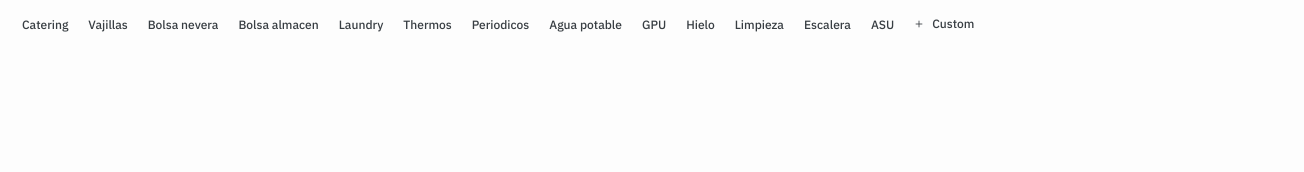
Test: AddServicePicker — built-in chips › clicking + Custom switches into custom mode with an input
Click the button "Custom". click: (944, 24)
box: x1=904 y1=12 x2=984 y2=36
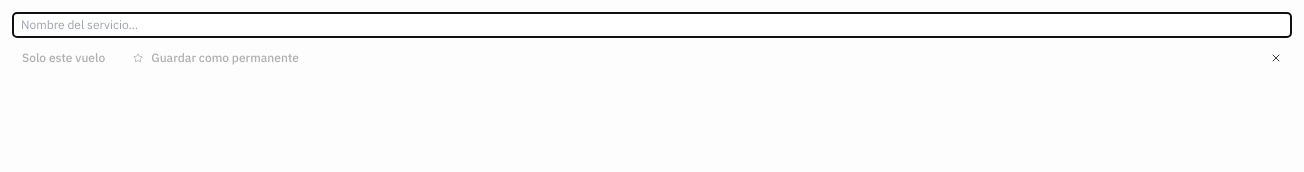
Result: the field with placeholder "Nombre del servicio…" is shown at x1=12 y1=12 x2=1292 y2=38
